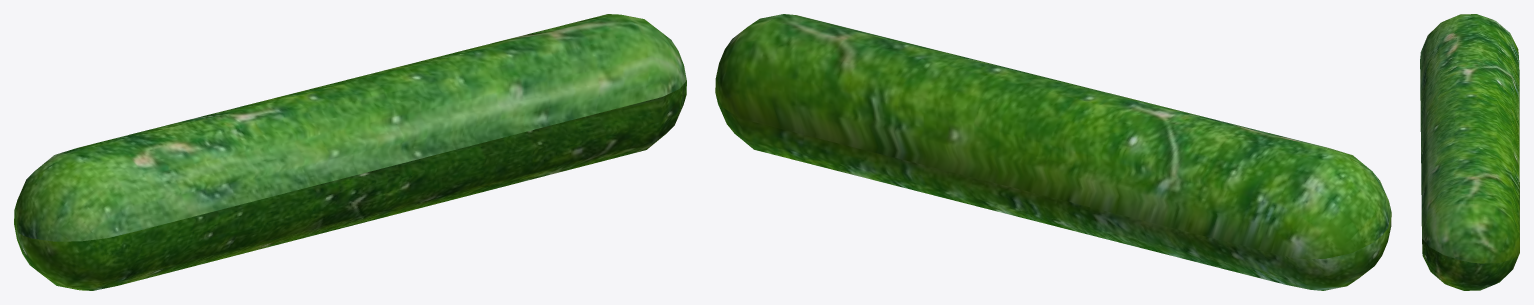
File: cucumber 2.fbx
3 renders of one model, left to right at view 1: azimuth 30°, elevation 25°; view 2: azimuth 150°, elevation 25°; view 3: azimuth 270°, elevation 25°, orthographic. The views are drawn at different scales.
Parts seen in each view (by area): view 1: Sphere; view 2: Sphere; view 3: Sphere.
Boxes of the visible parts, box(x1,y1,x2,y2) form: Sphere: box(14, 14, 686, 290); Sphere: box(715, 14, 1391, 290); Sphere: box(1420, 14, 1519, 290).
Size of the model in its own units: 1048 by 203 by 197.
Materials: 1 (1 with a texture image).
